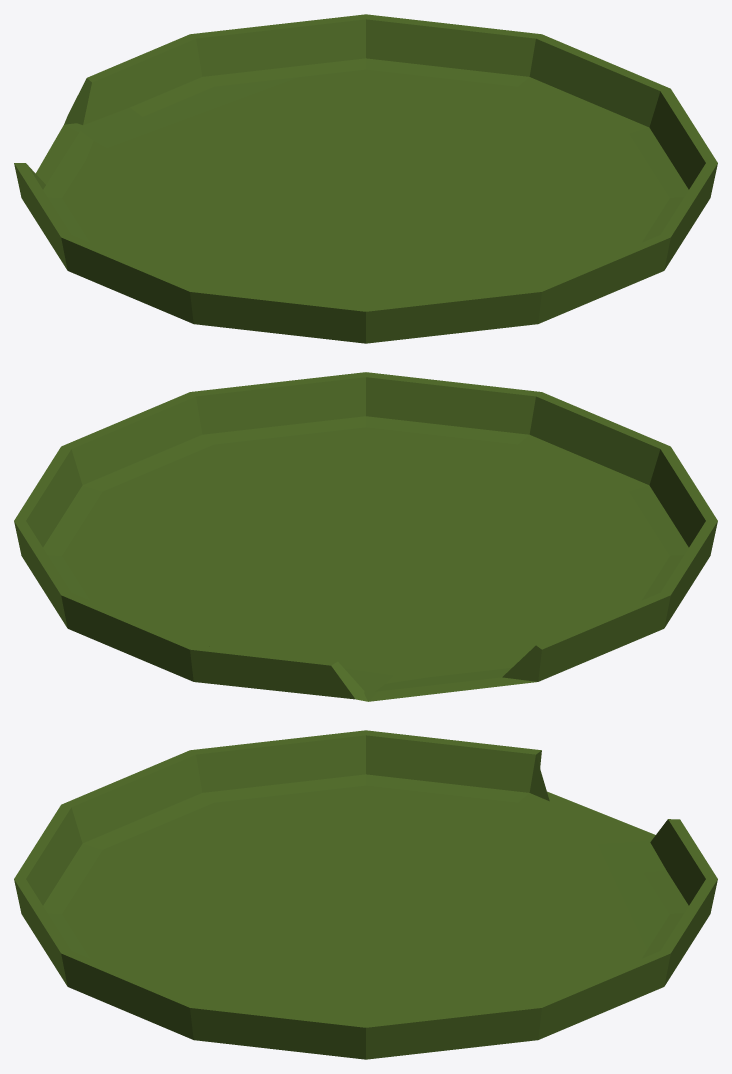
File: lilyPad.fbx
3 views of the same model, one above another, from view 1: azimuth 30°, elevation 25°; view 2: azimuth 150°, elevation 25°; view 3: azimuth 270°, elevation 25° (orthographic).
Parts seen in each view (by area): view 1: Circle; view 2: Circle; view 3: Circle.
Boxes of the visible parts, x1,y1,x2,y2 form: Circle: (14,14,717,343); Circle: (14,372,717,701); Circle: (14,730,717,1059).
Bounding box in the file's own units: 205 × 17.08 × 205.
